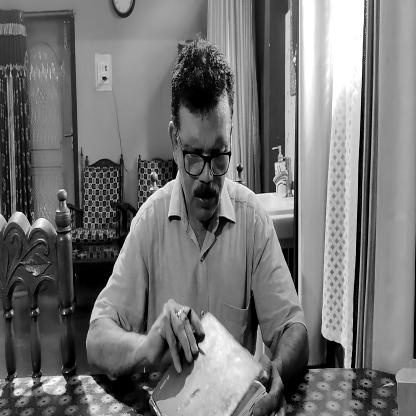Normal: (169, 41, 232, 224)
